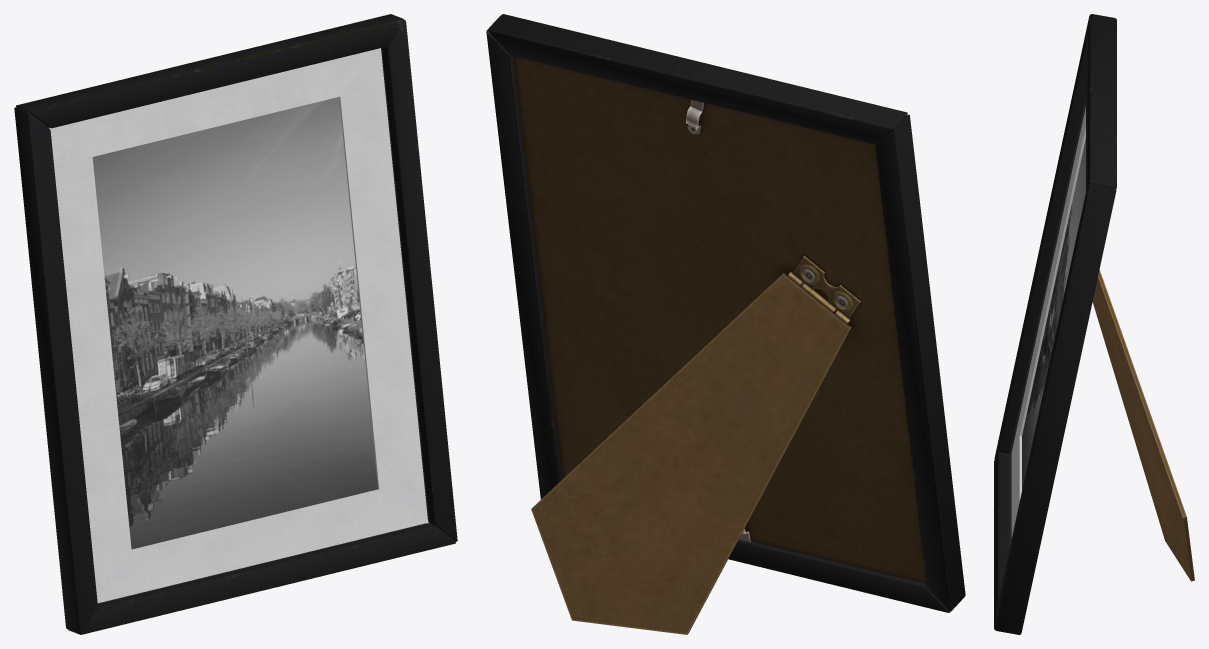
The model's file is PhotoFrameDesk.obj.
The picture shows the model from 3 angles, left to right: view 1: azimuth 30°, elevation 25°; view 2: azimuth 150°, elevation 25°; view 3: azimuth 270°, elevation 25°; orthographic projection. The views are drawn at different scales.
Parts seen in each view (by area): view 1: Frame, Artwork; view 2: Frame; view 3: Frame, Artwork.
Boxes of the visible parts, box(x1,y1,x2,y2) form: Frame: box(14, 14, 457, 634); Artwork: box(92, 97, 377, 549); Frame: box(486, 14, 965, 634); Frame: box(994, 14, 1194, 634); Artwork: box(1022, 139, 1086, 489).
Size of the model in its own units: 0.2008 by 0.2497 by 0.1002.
3 materials, 2 textured.
